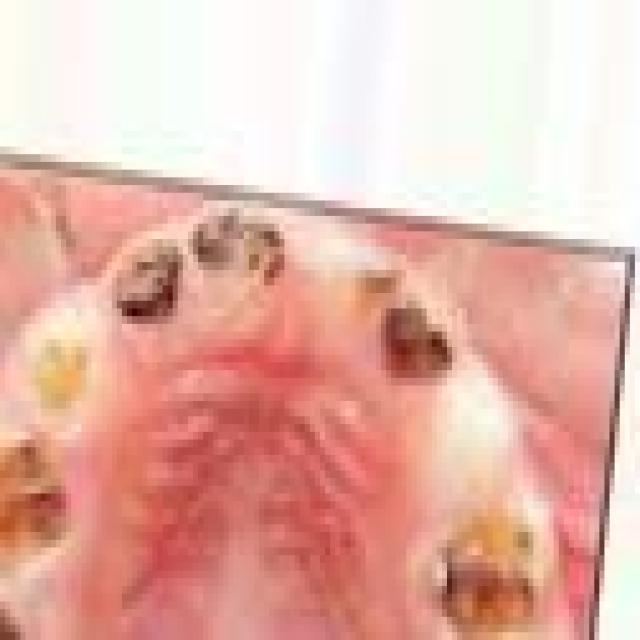caries: (420, 474, 560, 640), (345, 252, 467, 417), (0, 422, 76, 600), (16, 301, 106, 431), (180, 201, 288, 304), (95, 222, 188, 339)
